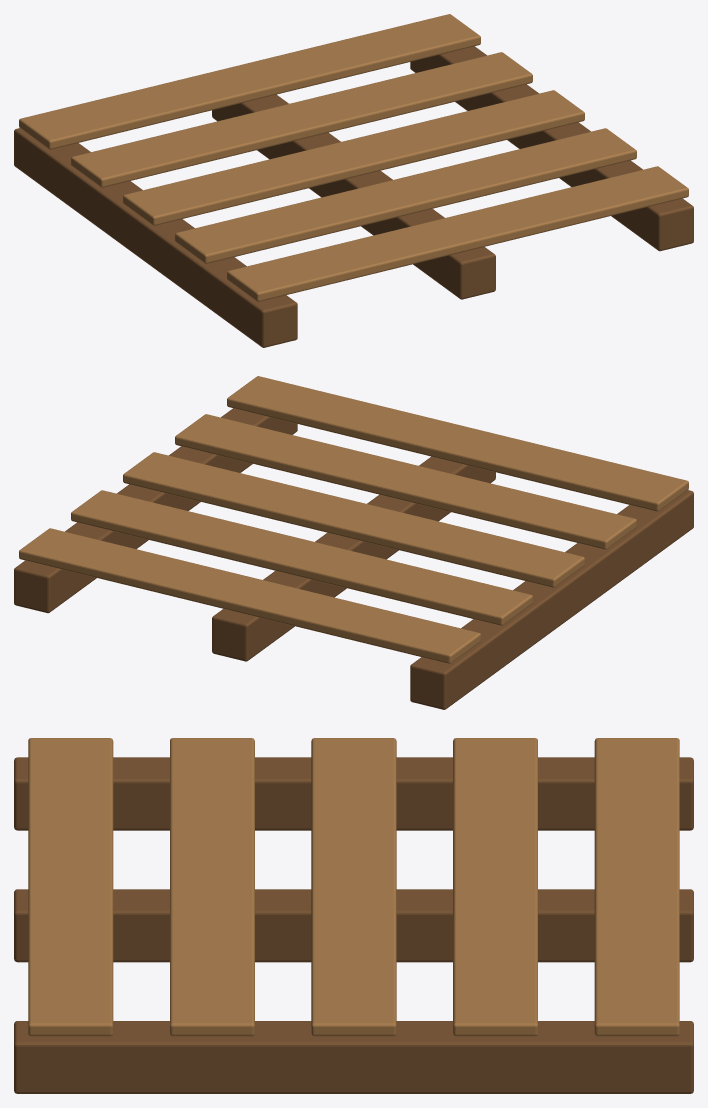
Rendered from Furn_Pallet.fbx.
3 renders of one model, top to bottom at view 1: azimuth 30°, elevation 25°; view 2: azimuth 150°, elevation 25°; view 3: azimuth 270°, elevation 25°, orthographic. The views are drawn at different scales.
Visible parts, largest first — view 1: Furn_Pallet; view 2: Furn_Pallet; view 3: Furn_Pallet.
Boxes of the visible parts, <box> form: Furn_Pallet: <box>14,14,693,347</box>; Furn_Pallet: <box>14,376,693,709</box>; Furn_Pallet: <box>14,738,693,1093</box>.
Size of the model in its own units: 1.2 by 0.1375 by 1.2.
